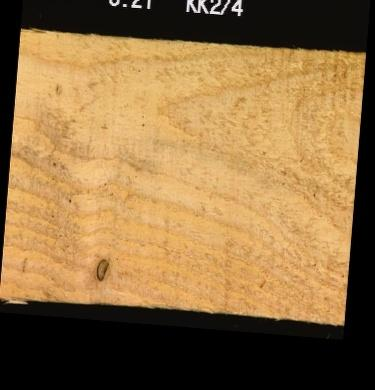dry_knot: (94, 255, 108, 281)
